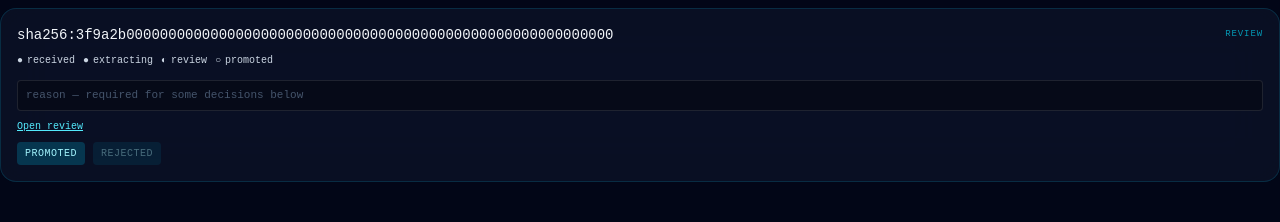
Scenario: IngestStatusCard a11y: live regions › an act refusal is reachable by role alert and carries its text
Step 1. Click the button "promoted" → (51, 153), box left=17, top=142, right=85, bottom=164
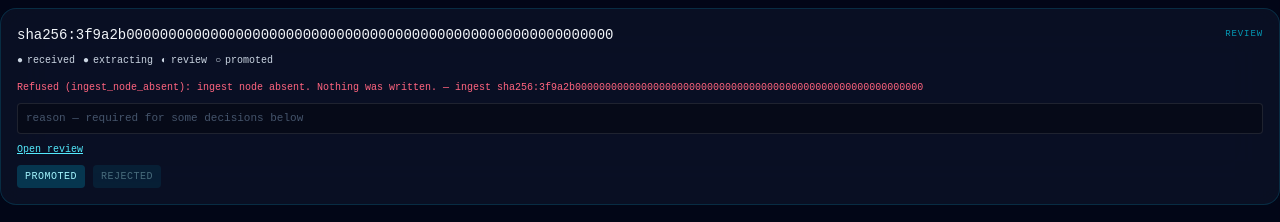
Expected: the 2nd message shows "Refused (ingest_node_absent): ingest node absent. Nothing was written.", left=17, top=82, right=923, bottom=93
